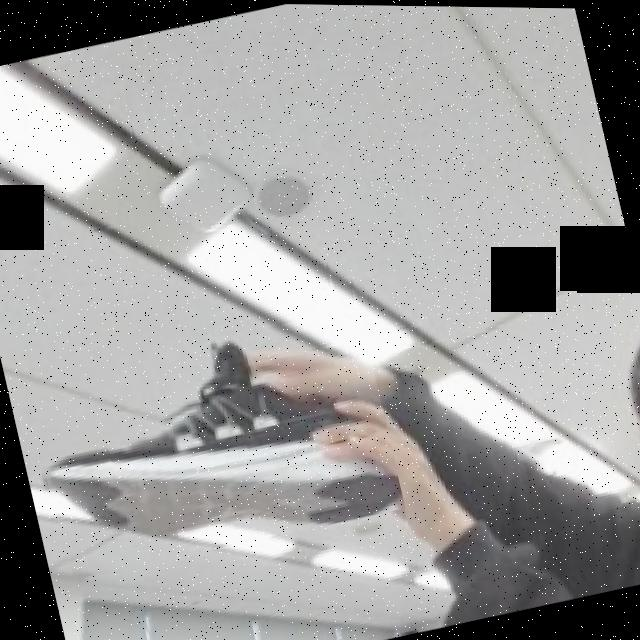shoe: (18, 300, 404, 585)
